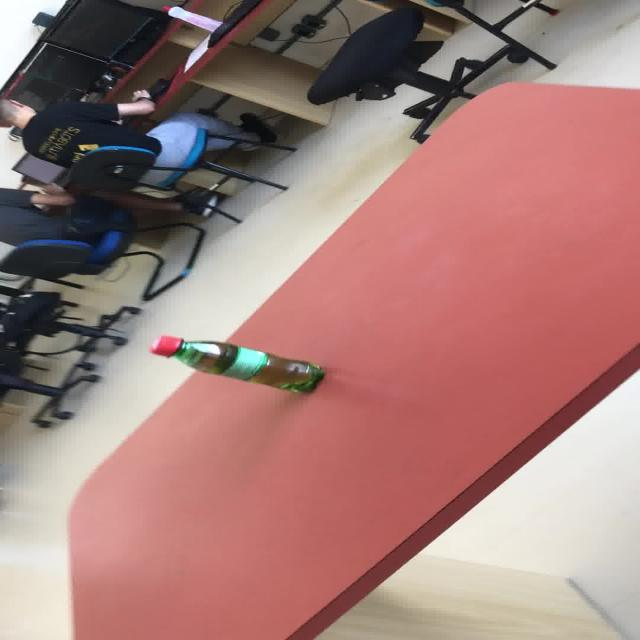guarana: (147, 333, 326, 394)
